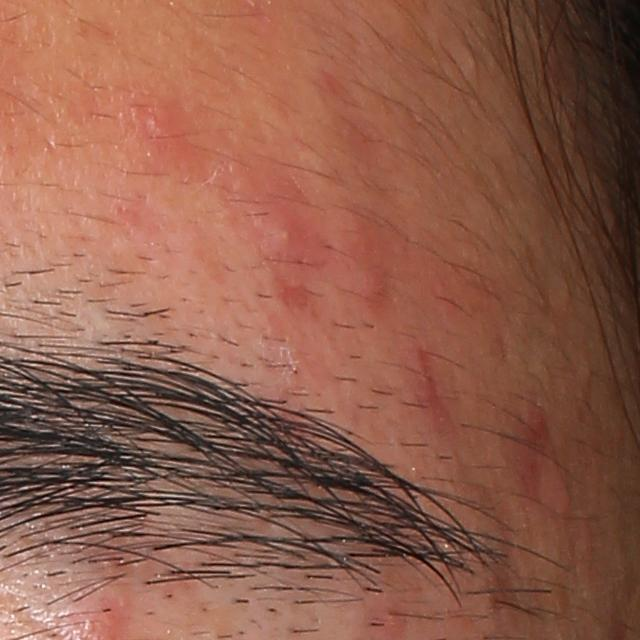papule: (134, 106, 186, 155), (525, 400, 551, 436)
